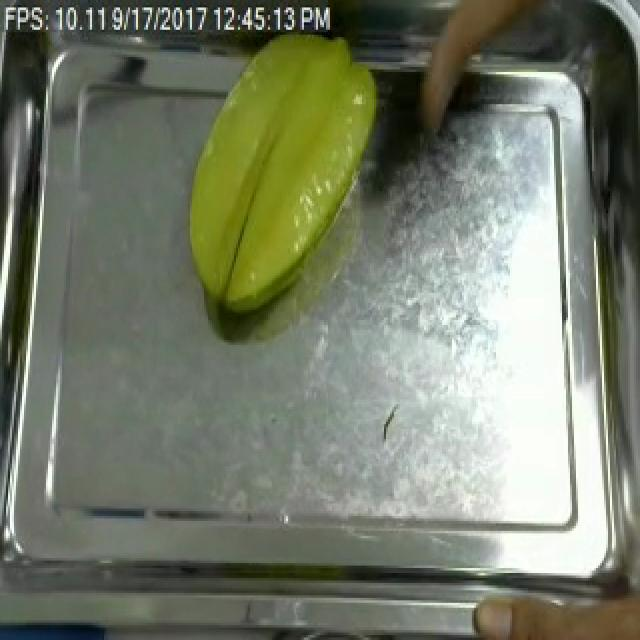fruit: (170, 20, 384, 332), (466, 560, 640, 640)
